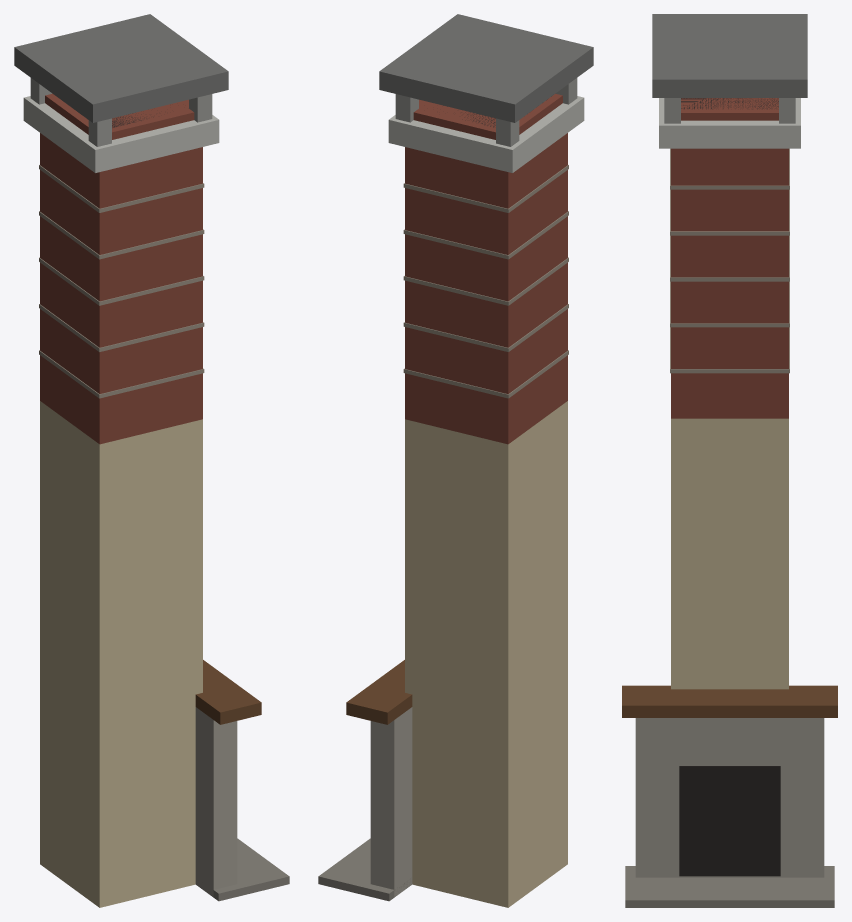
The model's file is SM_Bld_Chimney_01.glb.
3 renders of one model, left to right at view 1: azimuth 30°, elevation 25°; view 2: azimuth 150°, elevation 25°; view 3: azimuth 270°, elevation 25°, orthographic.
Parts seen in each view (by area): view 1: SM_Bld_Chimney_01; view 2: SM_Bld_Chimney_01; view 3: SM_Bld_Chimney_01.
Part boxes in pixels (x1=…): SM_Bld_Chimney_01: x1=14, y1=14, x2=289, y2=907; SM_Bld_Chimney_01: x1=318, y1=14, x2=593, y2=907; SM_Bld_Chimney_01: x1=622, y1=14, x2=837, y2=907.
Bounding box in the file's own units: 1.24 × 5.27 × 1.28.
1 material, 1 textured.
